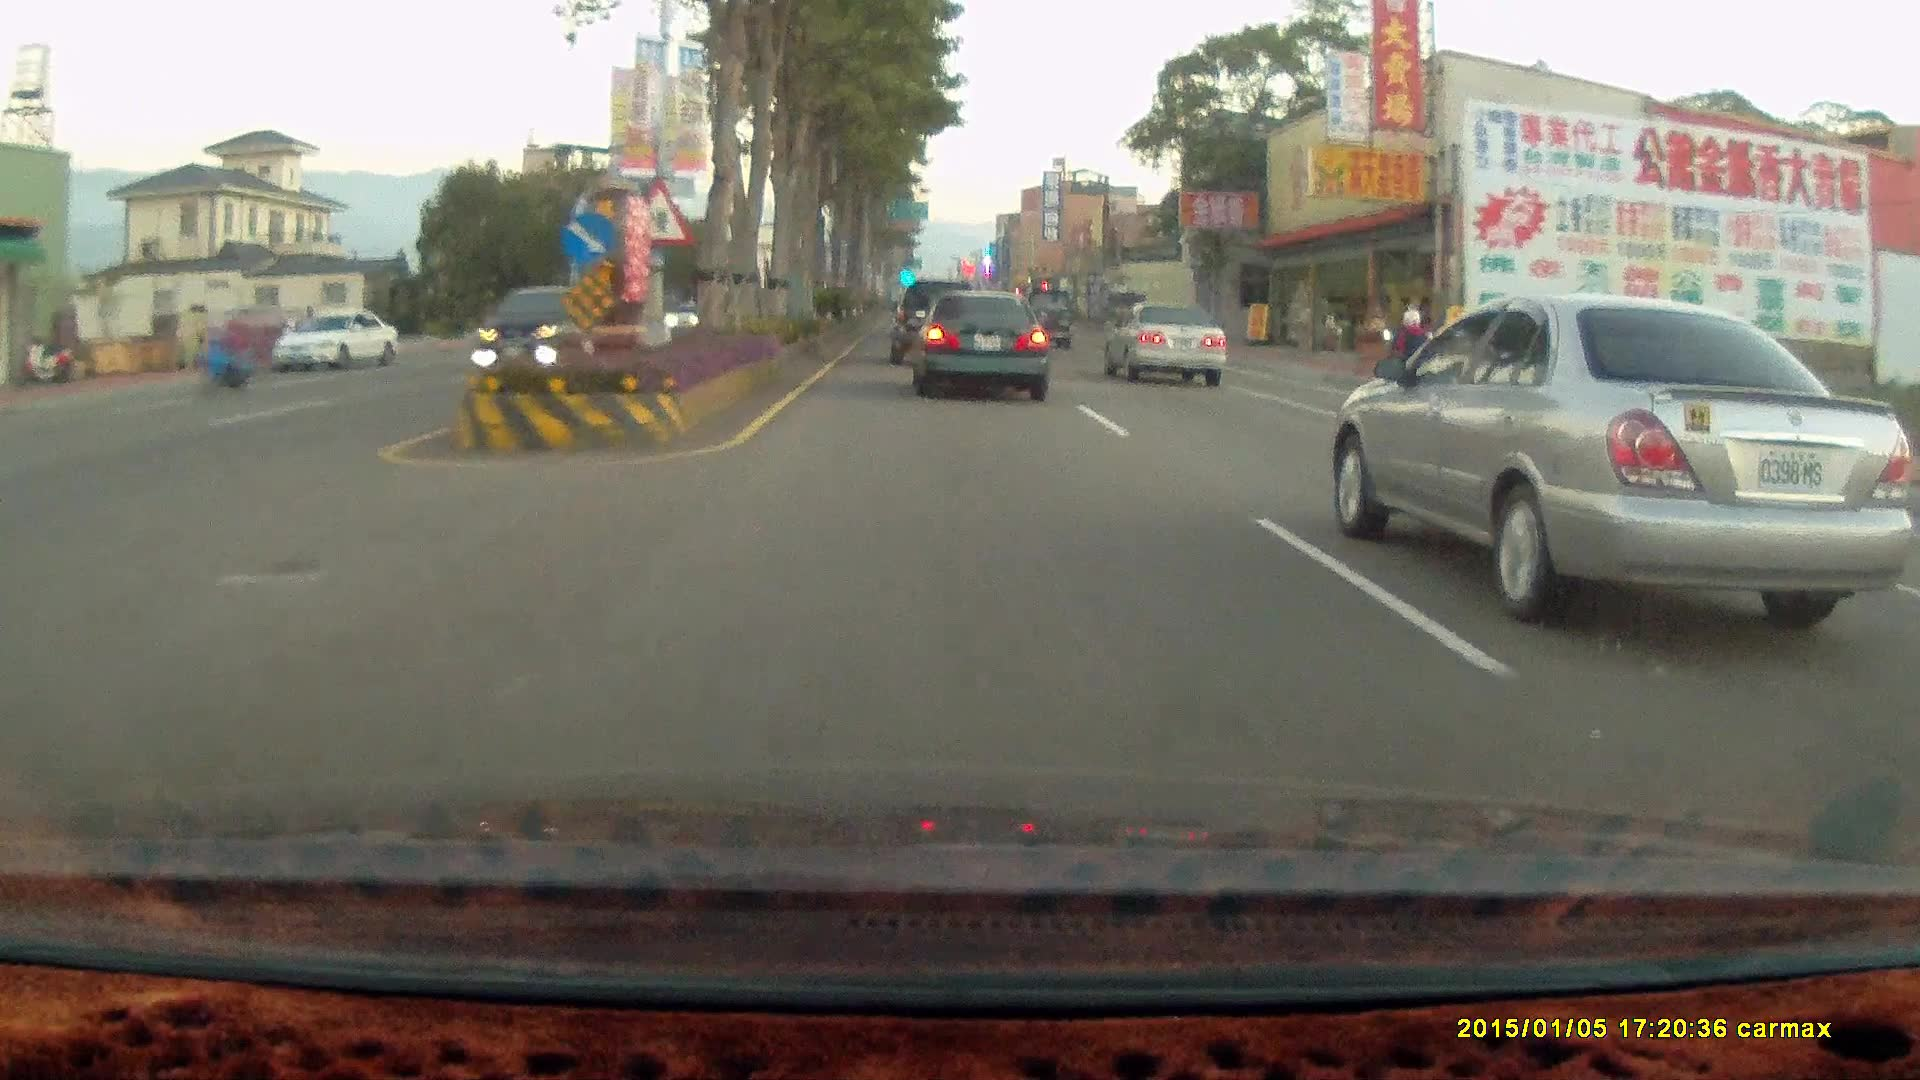rider: (1372, 293, 1447, 427), (198, 292, 254, 401), (1379, 322, 1432, 430)
vehicle: (1346, 288, 1920, 629), (912, 288, 1055, 402), (905, 288, 1049, 400), (472, 281, 609, 386), (1108, 303, 1231, 389), (1102, 301, 1225, 386), (271, 305, 400, 370), (887, 279, 980, 370), (275, 311, 404, 376), (889, 282, 976, 368), (1012, 287, 1073, 350)
